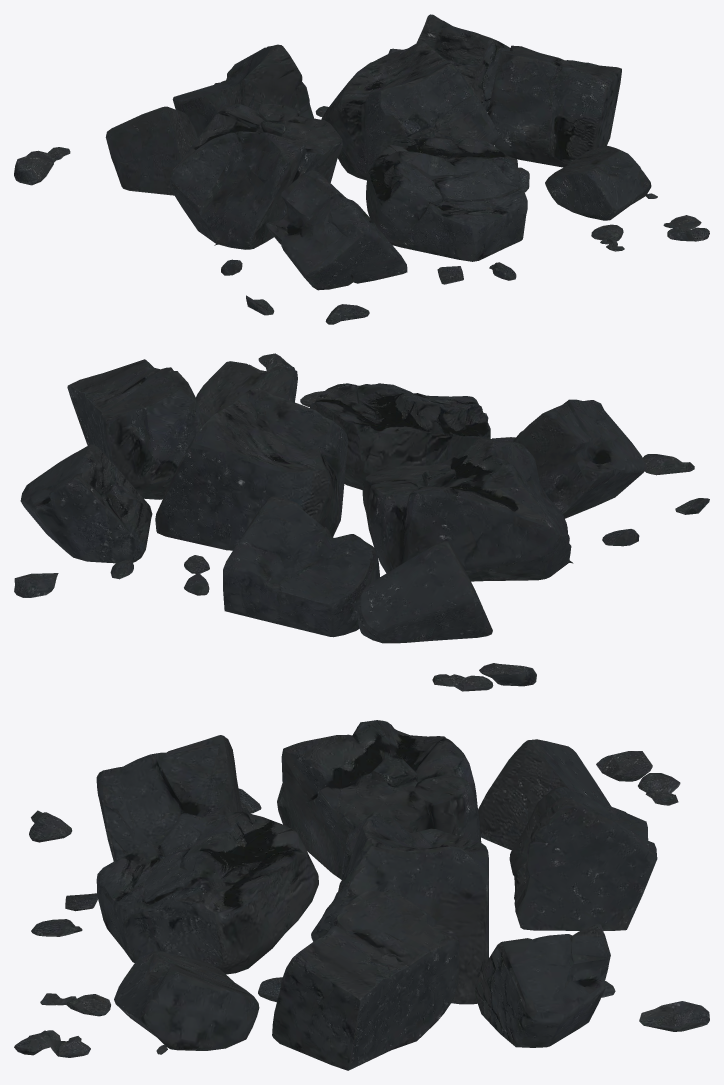
File: coal-lump-cluster-a.glb
The picture shows the model from 3 angles, top to bottom: view 1: azimuth 30°, elevation 25°; view 2: azimuth 150°, elevation 25°; view 3: azimuth 270°, elevation 25°; orthographic projection. The views are drawn at different scales.
Bounding box in the file's own units: 1.88 × 0.3825 × 1.73.
Materials: 1 (1 with a texture image).
